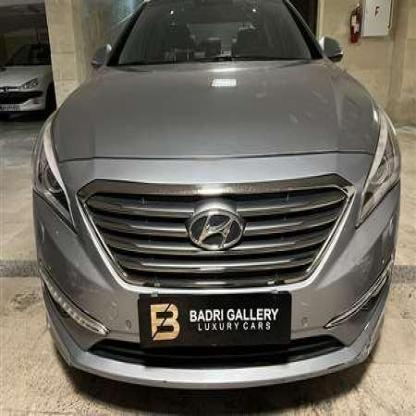Car: (26, 0, 399, 409), (0, 45, 56, 115)
